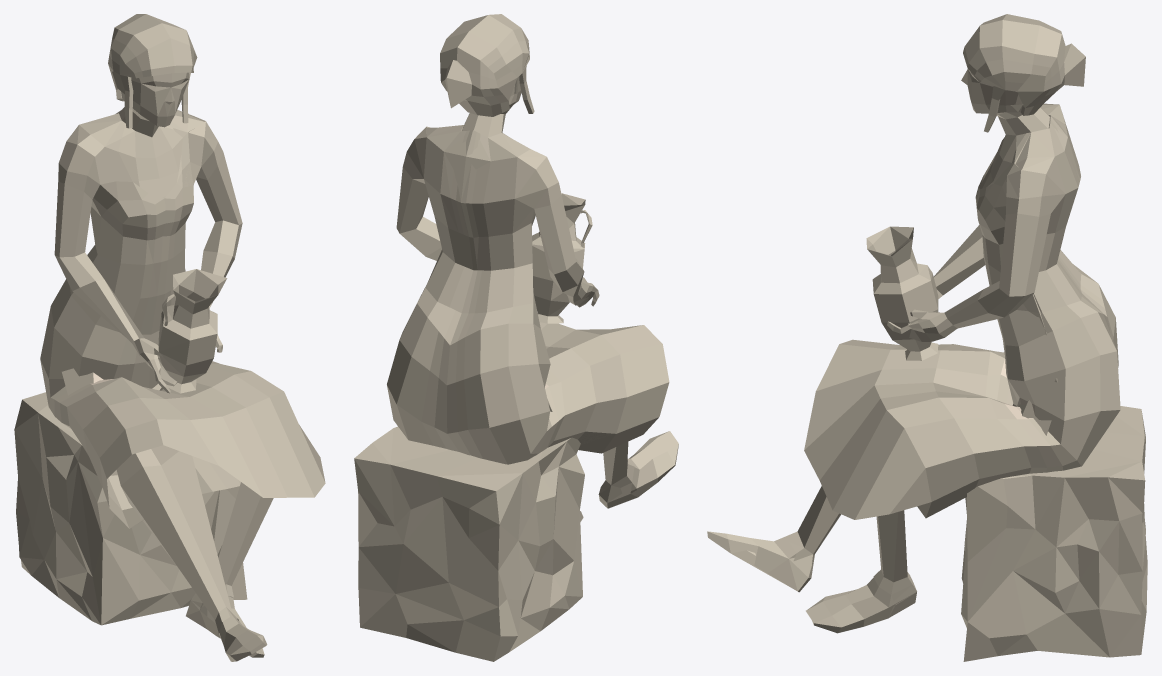
Rendered from Women_holding_jar.fbx.
3 views of the same model, side by side, from view 1: azimuth 30°, elevation 25°; view 2: azimuth 150°, elevation 25°; view 3: azimuth 270°, elevation 25° (orthographic). The views are drawn at different scales.
Parts seen in each view (by area): view 1: Women holding jar; view 2: Women holding jar; view 3: Women holding jar.
Boxes of the visible parts, x1,y1,x2,y2 form: Women holding jar: (14, 14, 325, 661); Women holding jar: (354, 14, 678, 661); Women holding jar: (707, 14, 1147, 661).
Size of the model in its own units: 243 by 606 by 398.
